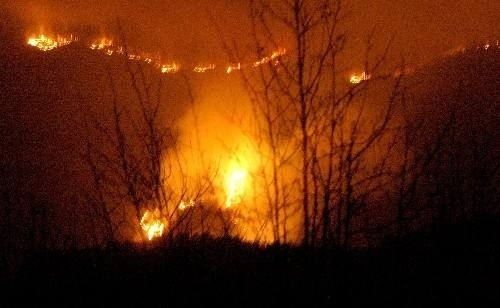fire: (82, 40, 296, 76), (216, 140, 262, 212), (136, 204, 168, 241), (345, 66, 373, 87)
